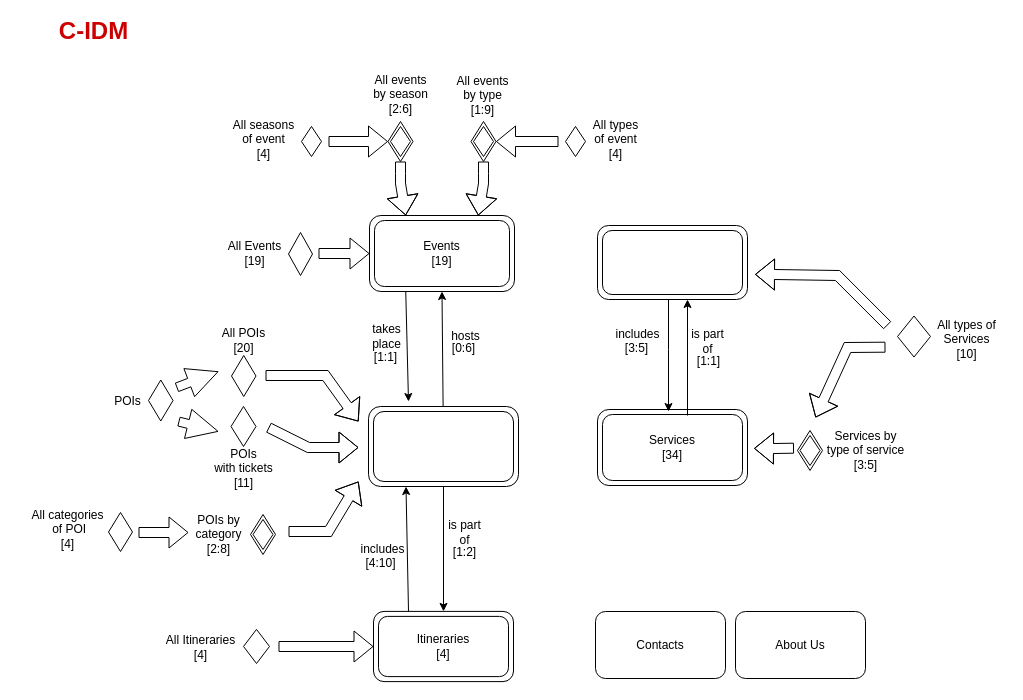
This 1023x700 diagram has some shape labels left out. The centre of each missing label's shape, as x and y in pixels:
Points of Interest [20]: pixel 443 446
Types of Services [10]: pixel 672 262
